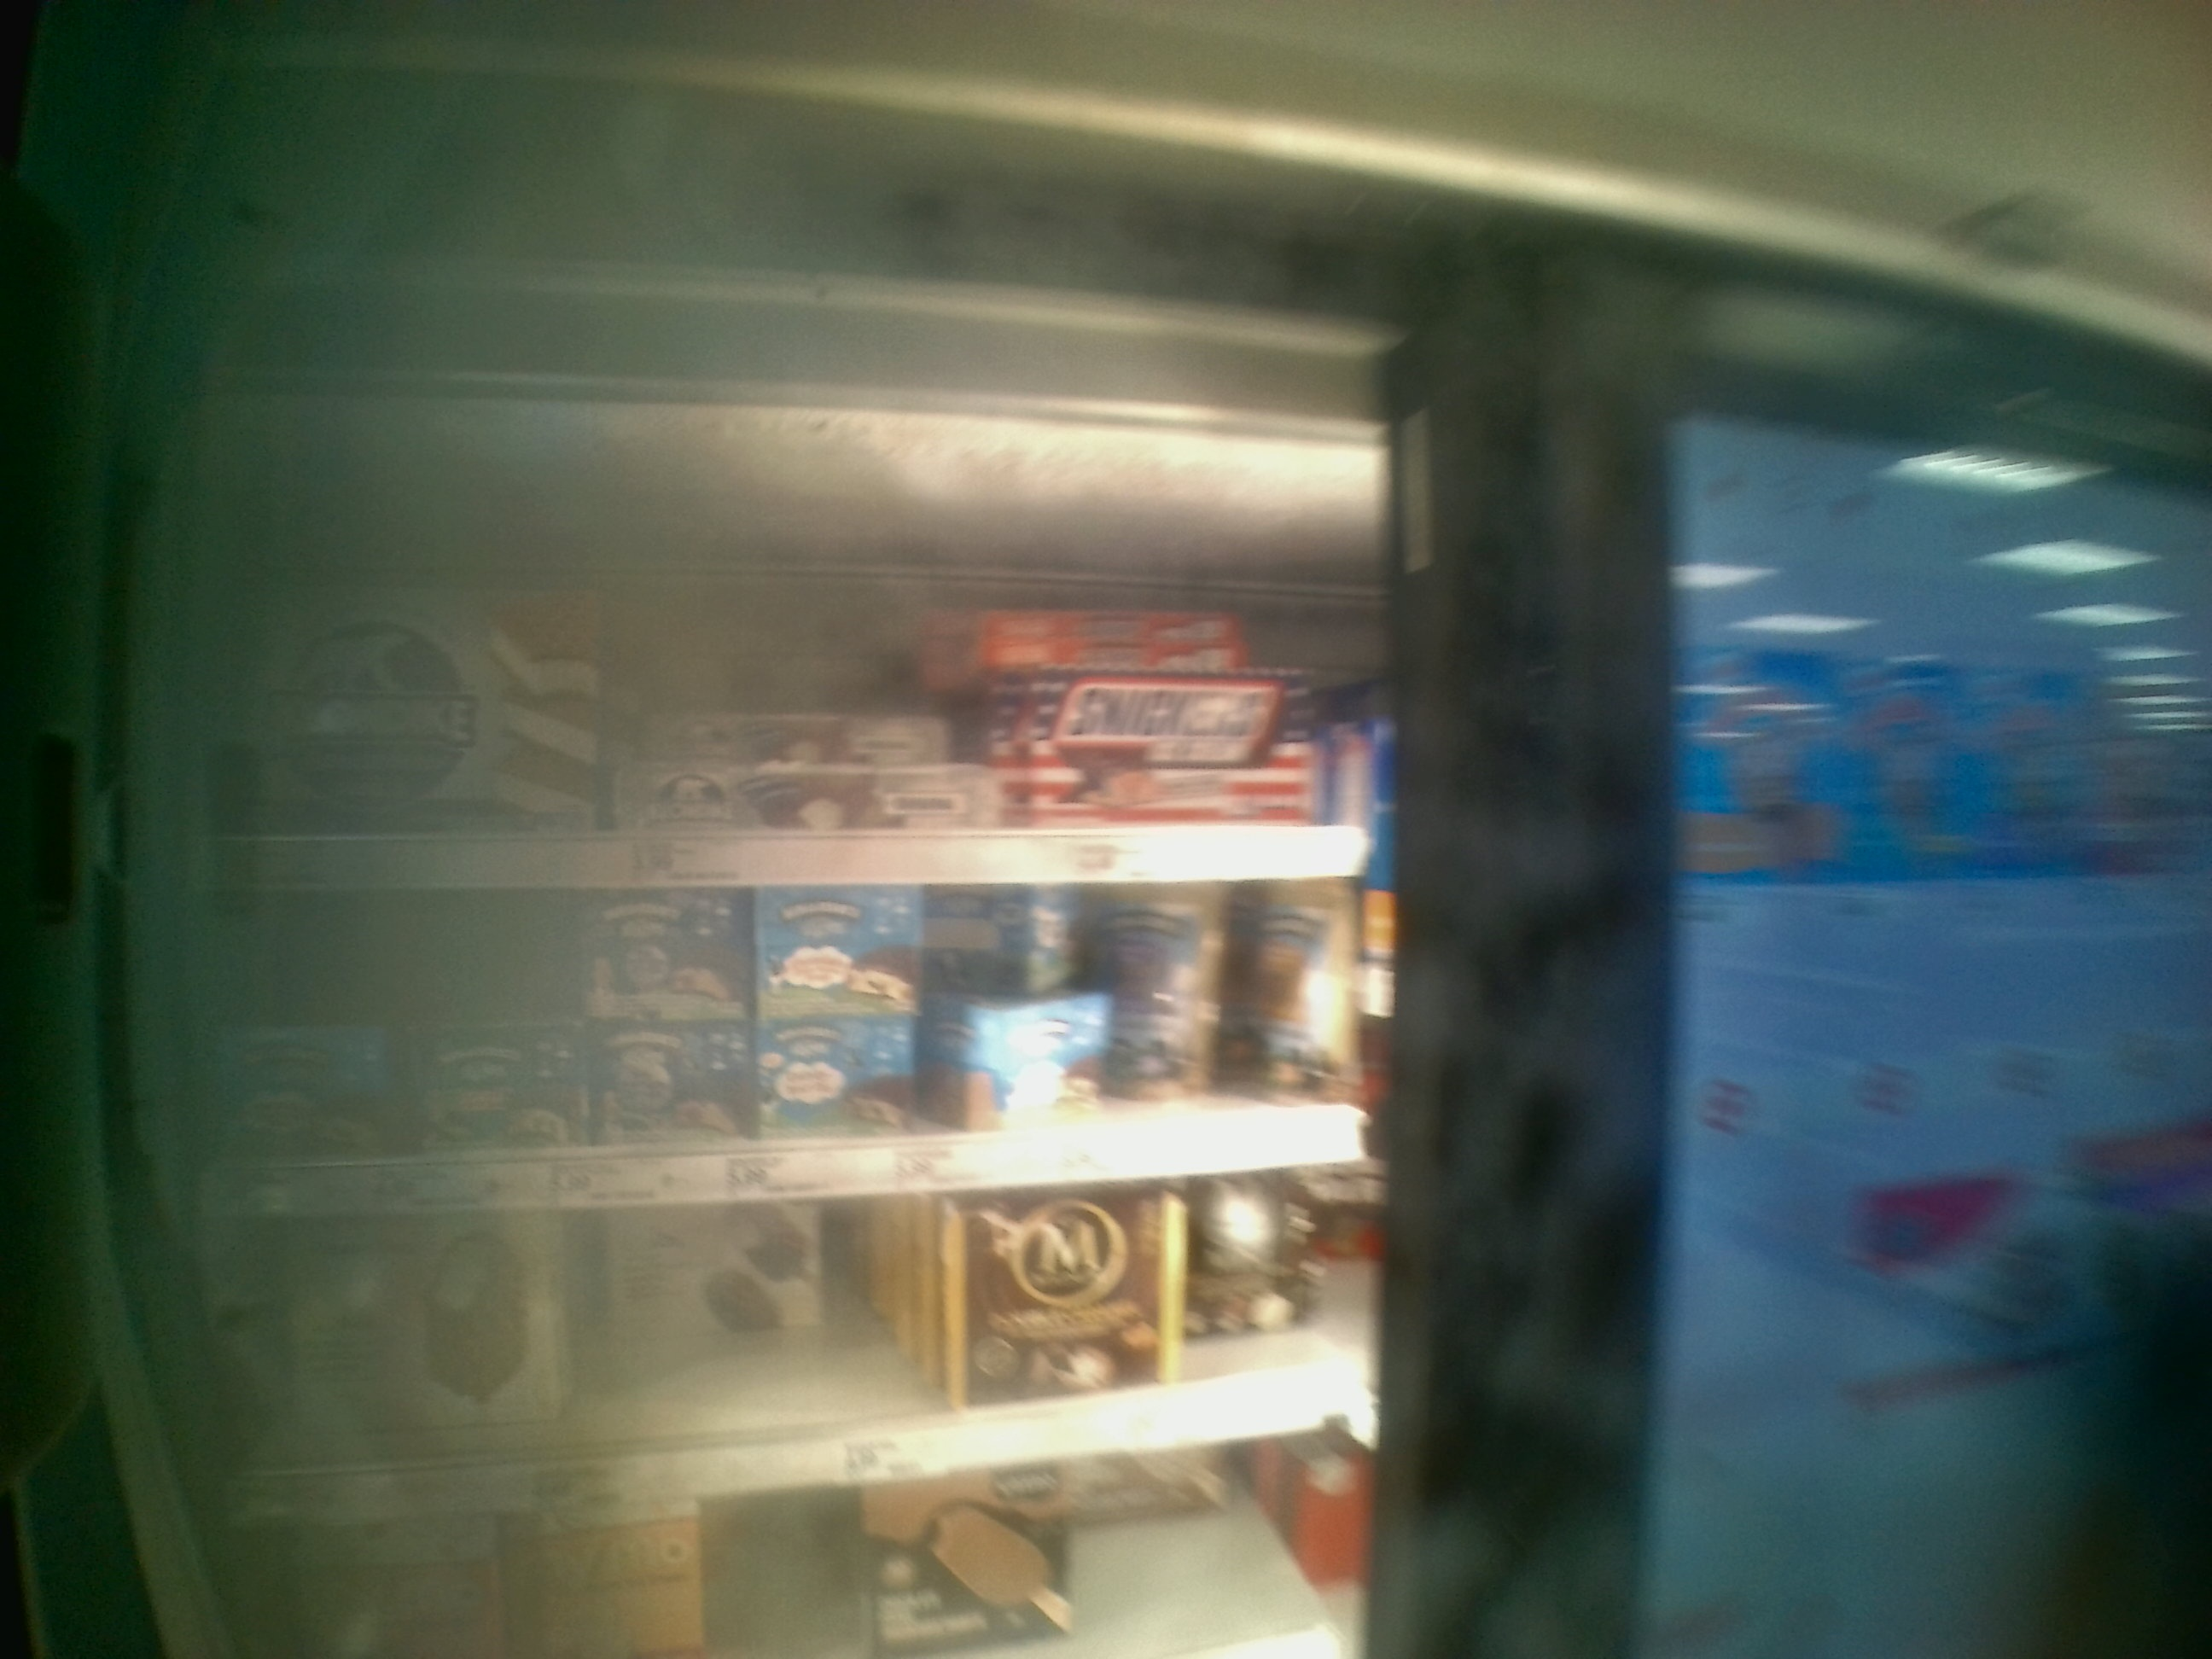ice-cream-shelf: (178, 448, 1379, 878)
